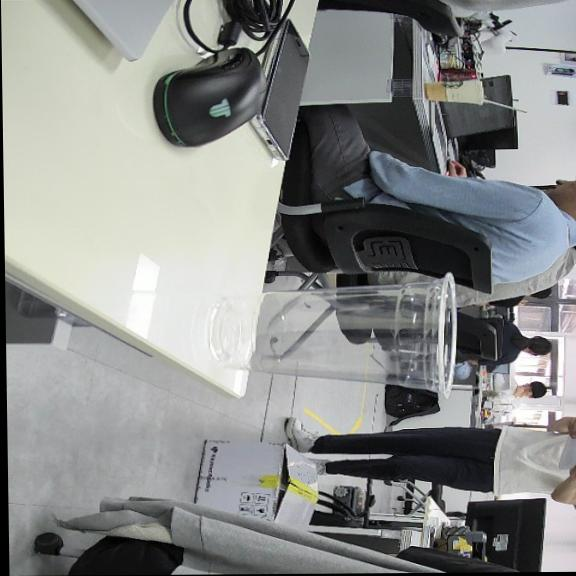Plastik: (208, 275, 455, 397)
